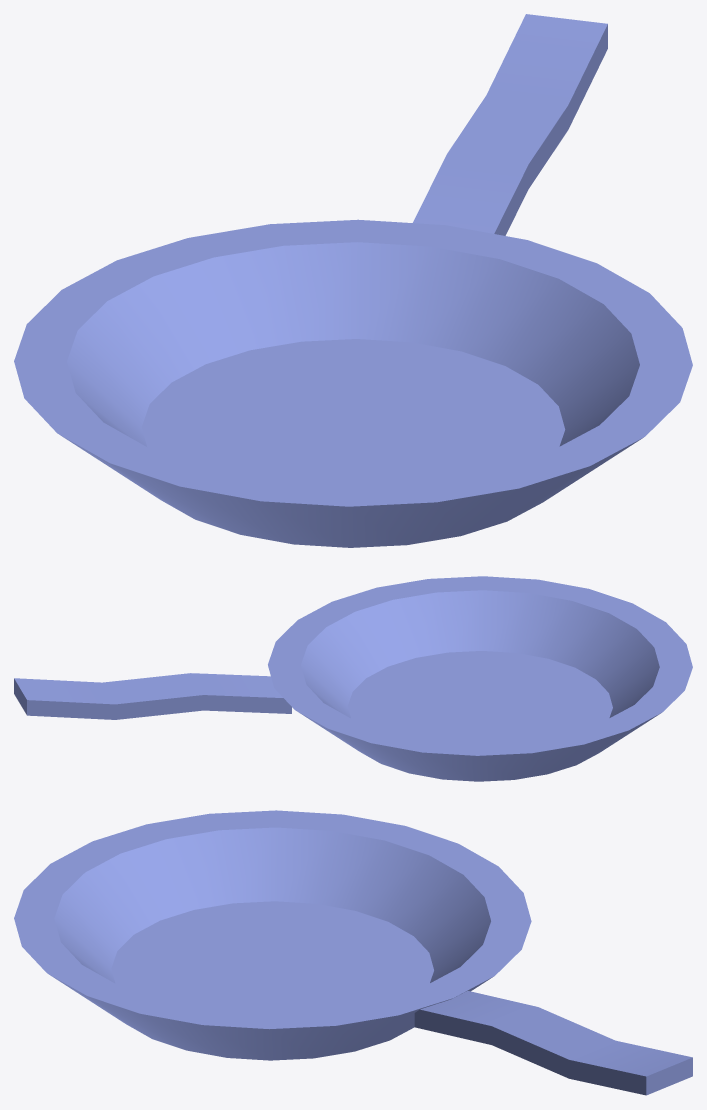
The model's file is 4 frying pan.fbx.
3 views of the same model, one above another, from view 1: azimuth 30°, elevation 25°; view 2: azimuth 150°, elevation 25°; view 3: azimuth 270°, elevation 25° (orthographic). The views are drawn at different scales.
Parts seen in each view (by area): view 1: 4 frying pan; view 2: 4 frying pan; view 3: 4 frying pan.
Boxes of the visible parts, left/top/right/bottom form: 4 frying pan: left=14, top=14, right=692, bottom=547; 4 frying pan: left=14, top=576, right=692, bottom=781; 4 frying pan: left=14, top=810, right=692, bottom=1095.
Bounding box in the file's own units: 25.77 × 4.02 × 25.05.
